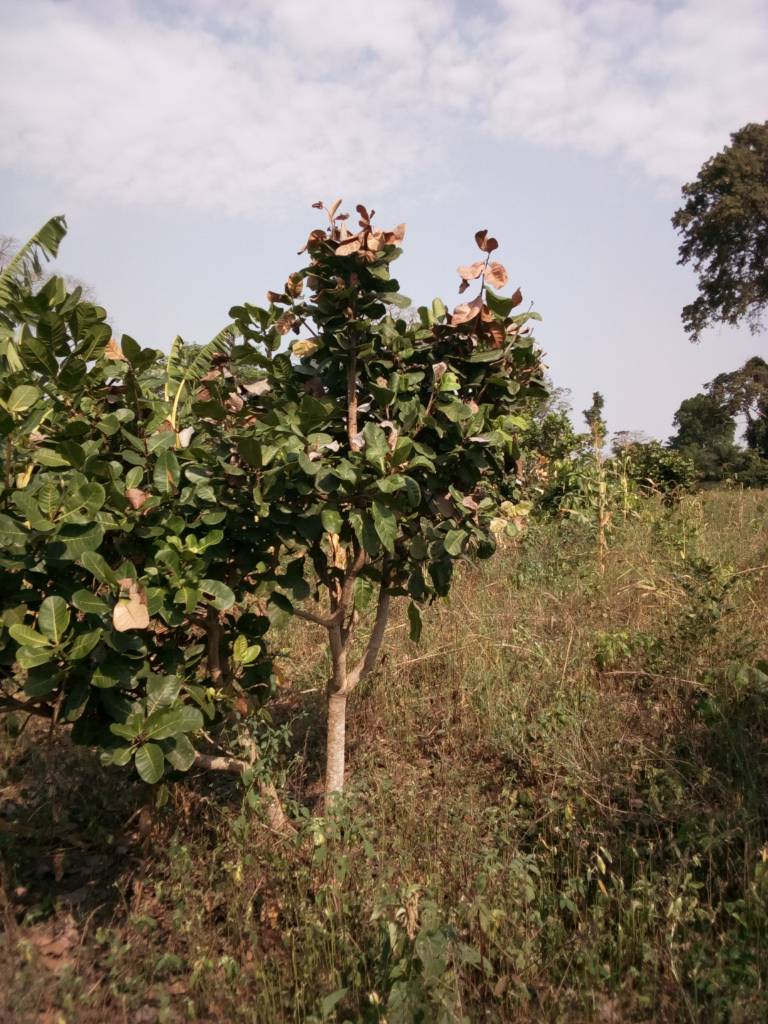Dessèchement des bourgeons: (315, 202, 410, 250), (455, 232, 508, 286)
